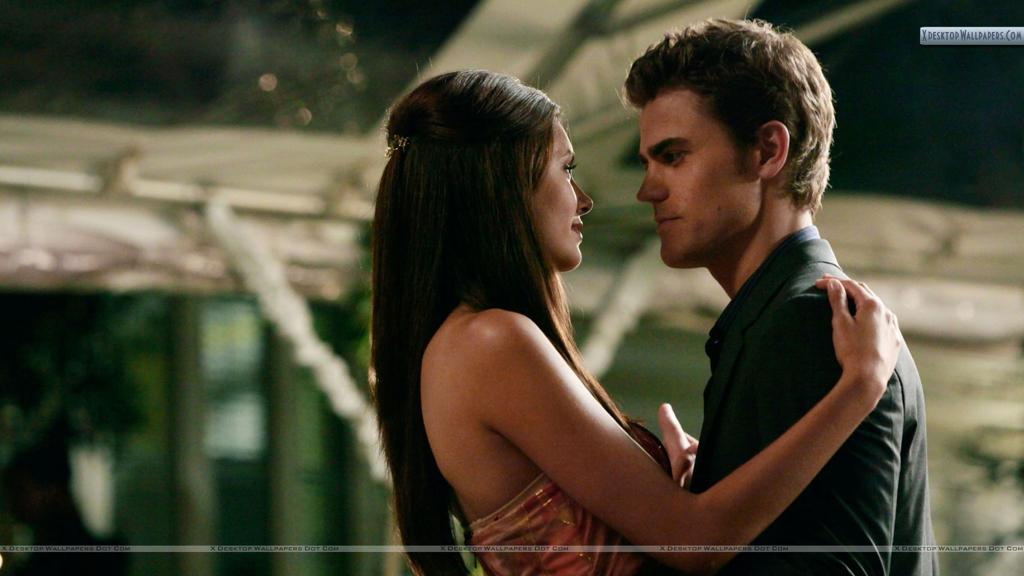face: (636, 74, 746, 272), (502, 88, 594, 266)
